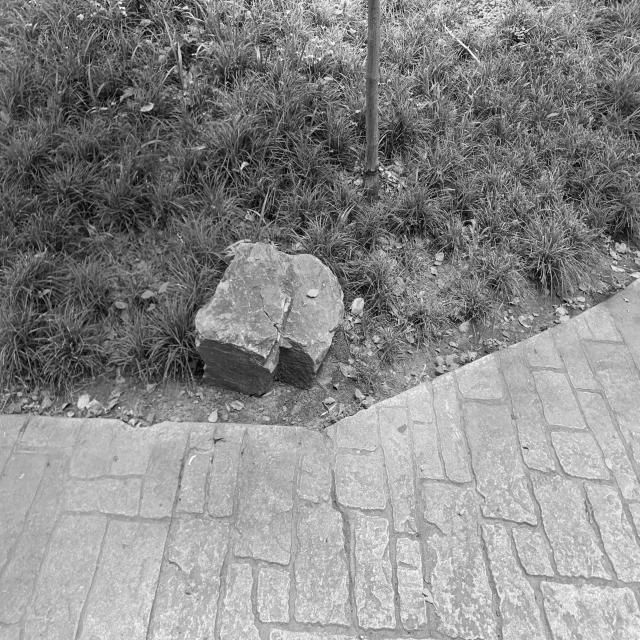Stone: (195, 244, 344, 395)
